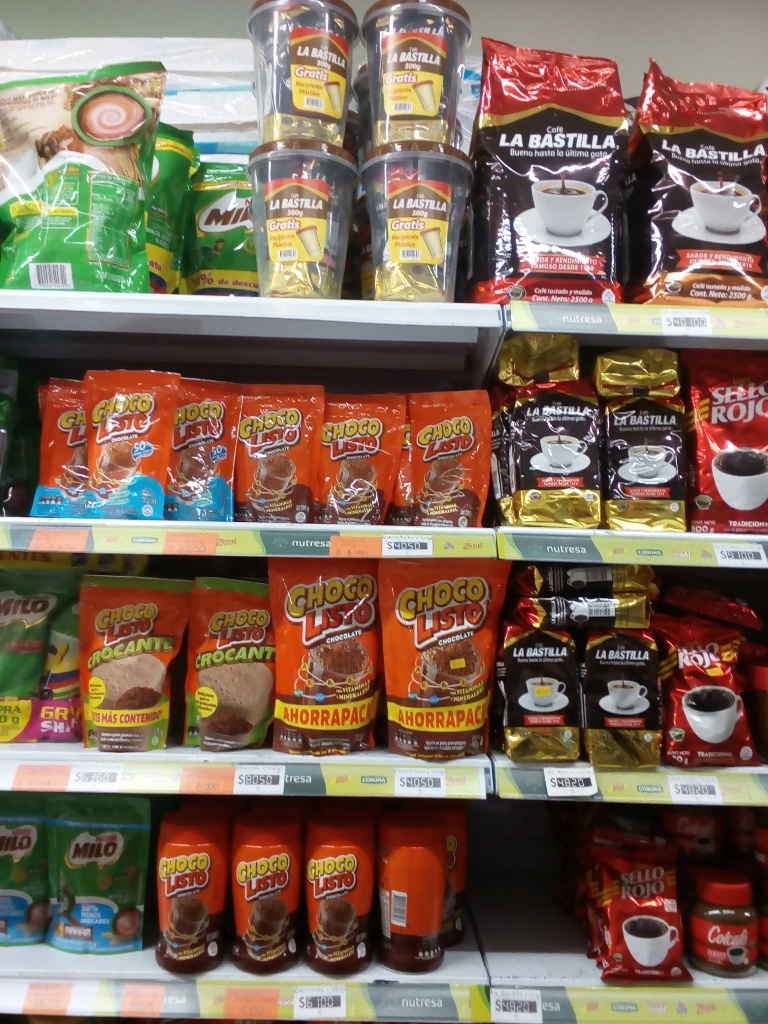COL0170102DYP25000: (192, 579, 273, 750)
COL0170103DYP20000: (244, 379, 321, 519)
COL0170103DYP44000: (269, 568, 373, 753)
COL0170103TRR30000: (160, 802, 227, 984)
COL0170104DYP20000: (37, 366, 91, 518)
COL0170203DYP25000: (173, 144, 263, 296)
COL0170205DYP20000: (0, 794, 49, 941)
